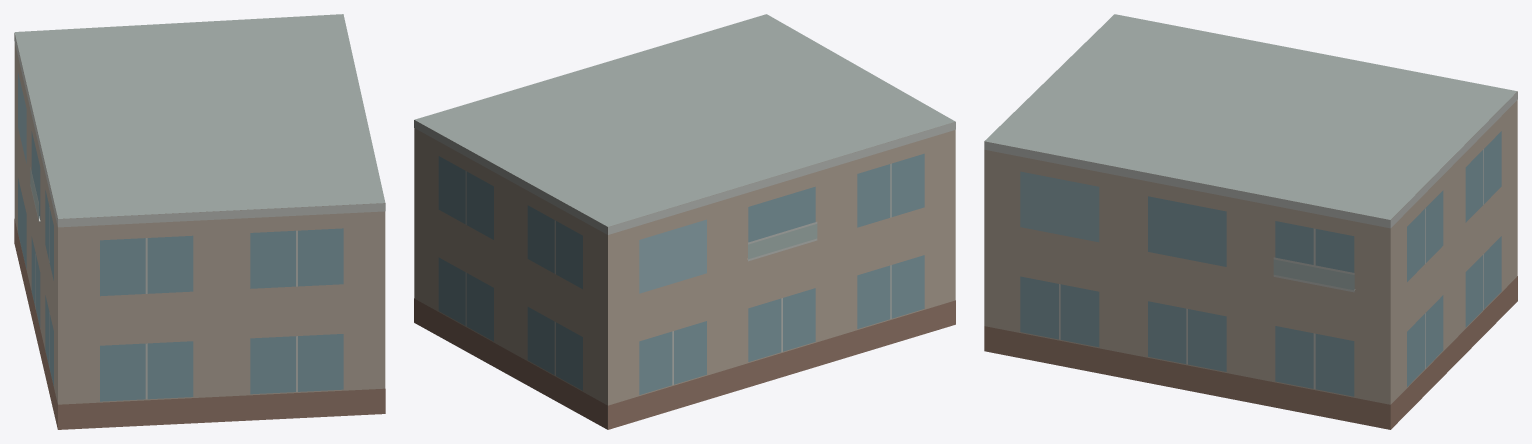
Rendered from survey-upis-32527832.glb.
3 renders of one model, left to right at view 1: azimuth 30°, elevation 25°; view 2: azimuth 150°, elevation 25°; view 3: azimuth 270°, elevation 25°, orthographic. The views are drawn at different scales.
Parts seen in each view (by area): view 1: survey-upis-32527832.tmp; view 2: survey-upis-32527832.tmp; view 3: survey-upis-32527832.tmp.
Boxes of the visible parts, x1,y1,x2,y2 form: survey-upis-32527832.tmp: (14,14,385,429); survey-upis-32527832.tmp: (414,14,955,429); survey-upis-32527832.tmp: (984,14,1517,429).
Size of the model in its own units: 12.85 by 6.1 by 14.06.
